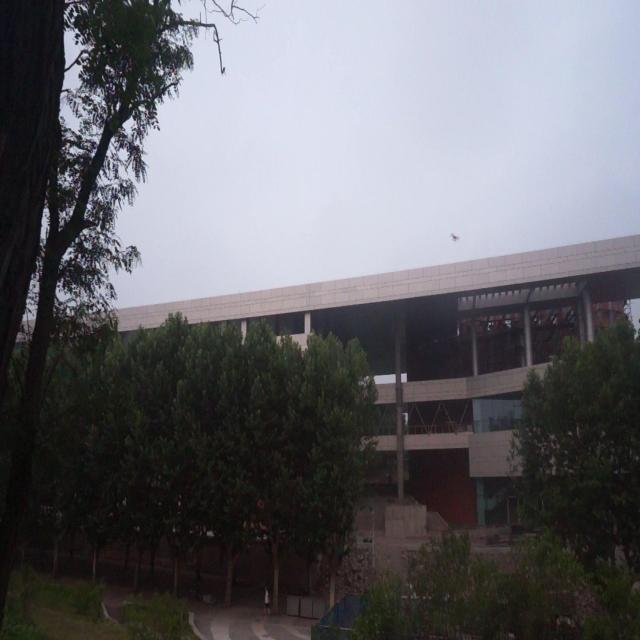drone: (448, 227, 461, 246)
